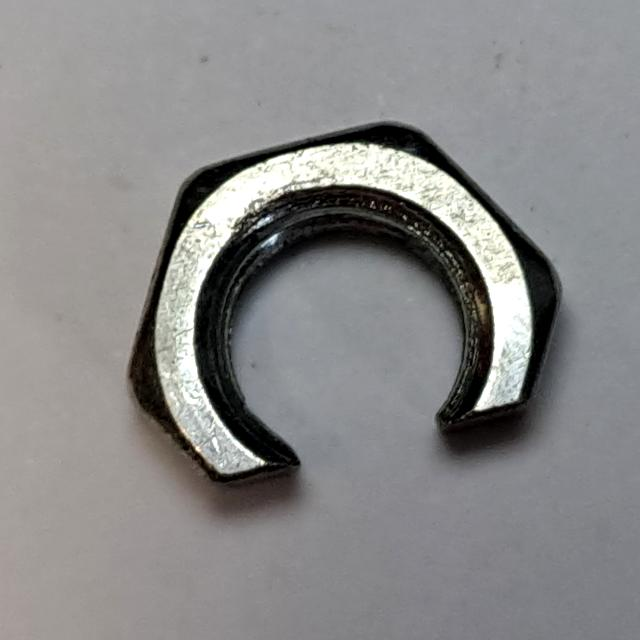Fracture: (104, 111, 572, 508)
